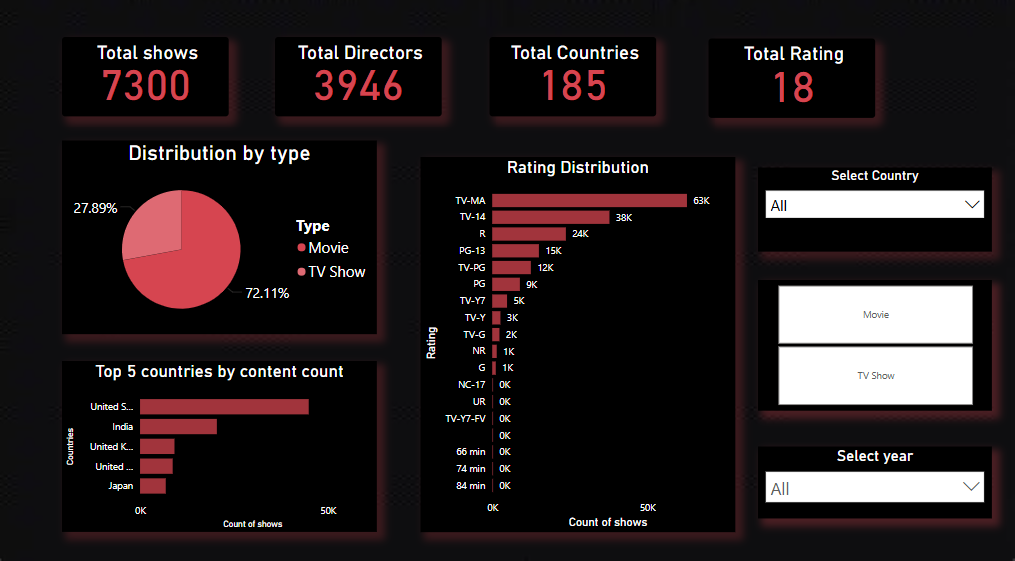

This screenshot's page, from the dashboard's own definition file:
{"tool":"powerbi","page":{"name":"Page 1","canvas":[1280,720],"ordinal":0},"visuals":[{"type":"card","title":"Total shows","fields":{"Values":["Count(netflix_dataset.title)"]},"box":[79.4,52.9,209.8,100.2],"z":0},{"type":"card","title":"Total Directors","fields":{"Values":["Count(netflix_dataset.director)"]},"box":[347.7,52.9,209.8,100.2],"z":1000},{"type":"card","title":"Total Countries","fields":{"Values":["Count(netflix_dataset.country)"]},"box":[618,52.9,209.8,100.2],"z":2000},{"type":"card","title":"Total Rating","fields":{"Values":["Count(netflix_dataset.rating)","select","select1","select2"]},"box":[893.9,54.8,209.8,100.2],"z":3000},{"type":"pieChart","fields":{"Category":["netflix_dataset.type"],"Y":["CountNonNull(netflix_dataset.type)"]},"box":[79.4,183.3,396.9,243.8],"z":4000},{"type":"clusteredBarChart","title":"Top 5 countries by content count","fields":{"Category":["netflix_dataset.country"],"Y":["CountNonNull(netflix_dataset.show_id)"]},"box":[79.4,461.1,396.9,215.4],"z":5000},{"type":"slicer","title":"Select Country","fields":{"Values":["netflix_dataset.country"]},"box":[956.2,217.3,294.8,105.8],"z":6000},{"type":"clusteredBarChart","title":"Rating Distribution","fields":{"Category":["netflix_dataset.rating"],"Y":["CountNonNull(netflix_dataset.show_id)"]},"box":[531,204.1,396.9,472.4],"z":7000},{"type":"slicer","fields":{"Values":["netflix_dataset.type"]},"box":[956.2,359.1,294.8,164.4],"z":7001},{"type":"slicer","title":"Select year","fields":{"Values":["netflix_dataset.Year_Added"]},"box":[956.2,568.8,294.8,90.7],"z":7002}]}

Visuals, with their boxes in screenshot pixels (x1, y1, x2, y2), scaled from the page's 1280x720 canvas onto the 1015x561 screenshot:
"Total shows" card: {"left": 63, "top": 41, "right": 229, "bottom": 119}
"Total Directors" card: {"left": 276, "top": 41, "right": 442, "bottom": 119}
"Total Countries" card: {"left": 490, "top": 41, "right": 656, "bottom": 119}
"Total Rating" card: {"left": 709, "top": 43, "right": 875, "bottom": 121}
pieChart - netflix_dataset.type x CountNonNull(netflix_dataset.type): {"left": 63, "top": 143, "right": 378, "bottom": 333}
"Top 5 countries by content count" clusteredBarChart: {"left": 63, "top": 359, "right": 378, "bottom": 527}
"Select Country" slicer: {"left": 758, "top": 169, "right": 992, "bottom": 252}
"Rating Distribution" clusteredBarChart: {"left": 421, "top": 159, "right": 736, "bottom": 527}
slicer - netflix_dataset.type: {"left": 758, "top": 280, "right": 992, "bottom": 408}
"Select year" slicer: {"left": 758, "top": 443, "right": 992, "bottom": 514}
